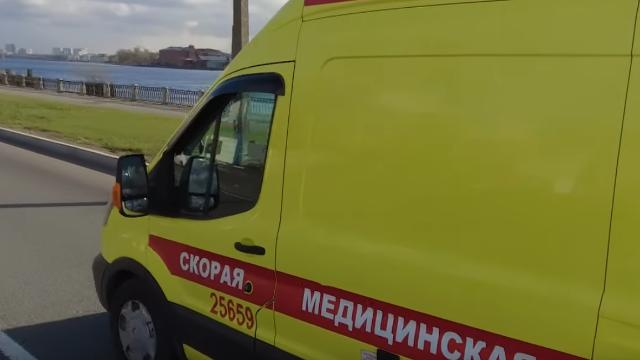intensive care unit: (93, 1, 640, 360)
